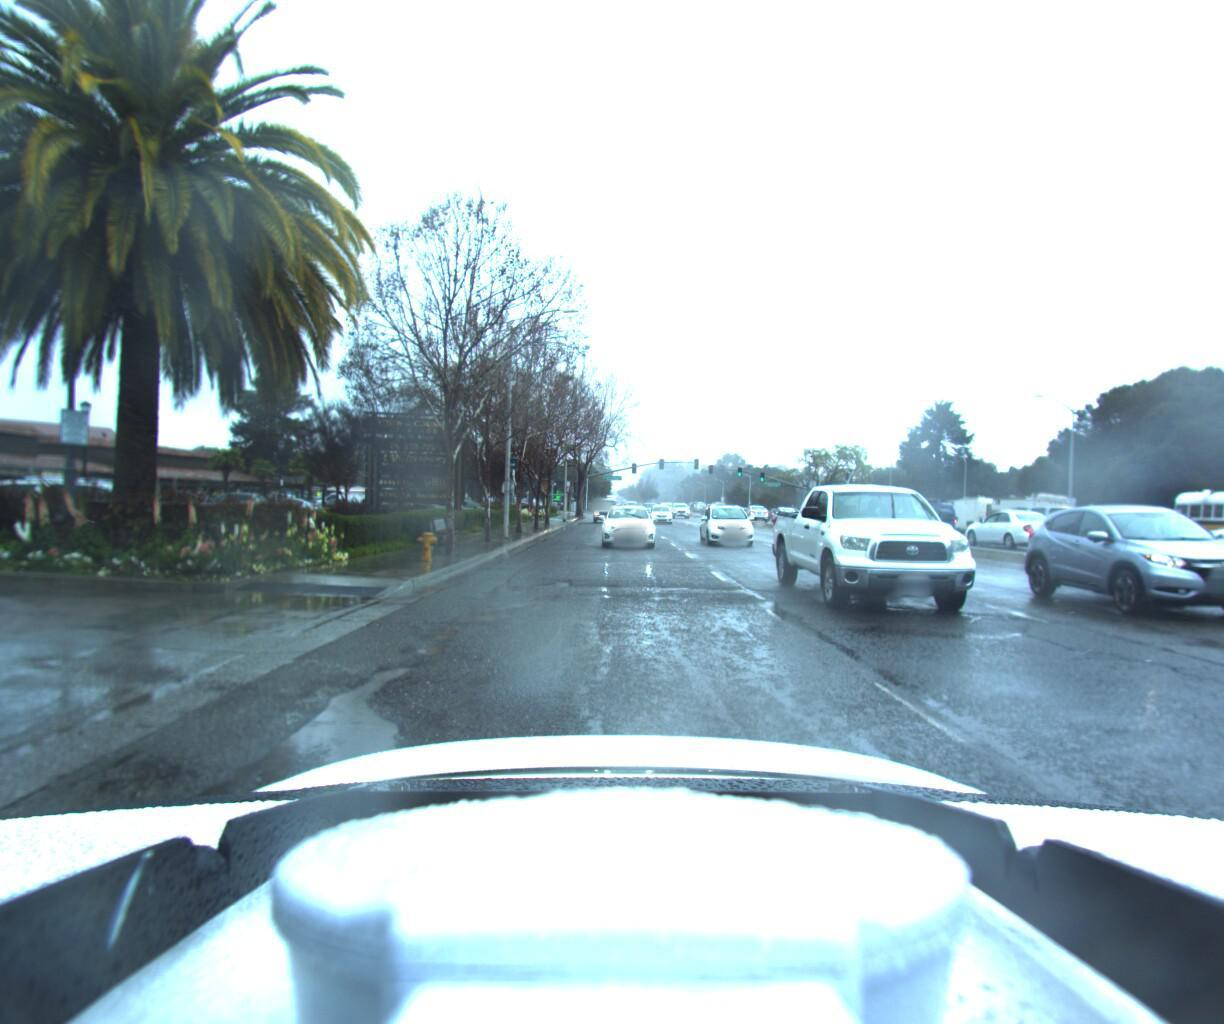bus: (1142, 474, 1224, 573)
car: (776, 467, 1031, 628), (0, 473, 239, 578), (1056, 495, 1224, 643), (950, 506, 1059, 551), (987, 499, 1088, 545), (697, 501, 764, 549), (1182, 505, 1224, 571), (599, 501, 655, 550), (903, 492, 957, 531), (587, 497, 615, 523), (1217, 499, 1224, 592), (648, 501, 674, 522), (742, 503, 771, 521), (767, 505, 796, 522)
other_vehicle: (980, 487, 1085, 543), (926, 491, 1012, 537)
